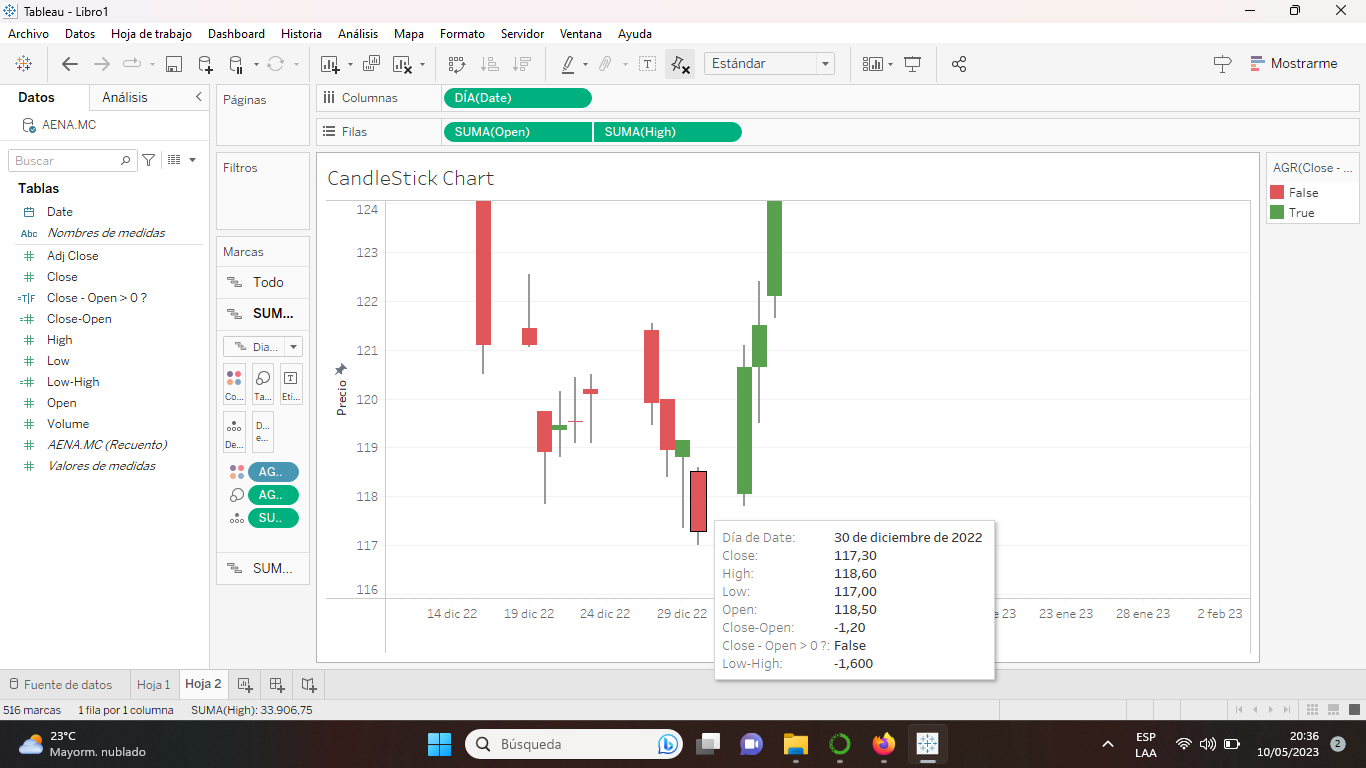

What the dashboard file says about the page in this screenshot:
{"tool":"tableau","page":{"name":"Dashboard 1","canvas":[1000,800],"ordinal":0},"visuals":[{"type":"worksheet","title":"Hoja 2","mark":"GanttBar","rows":["Open","High"],"cols":["Date"],"box":[8,8,824,784]},{"type":"legend","title":"Hoja 2","param":"[federated.05aqvi60hvw6vv12es12b1oxaupe].[usr:Calculation_1022317140076920833:nk","box":[832,8,160,66]}]}

Visuals, with their boxes on the page's 1000x800 design canvas (x1, y1, x2, y2). These are canvas units, not pixel positions in the 1366x768 screenshot, which may show the page scaled, cropped or inside an application window:
"Hoja 2" worksheet (GanttBar marks): (x1=8, y1=8, x2=832, y2=792)
"Hoja 2" legend: (x1=832, y1=8, x2=992, y2=74)
